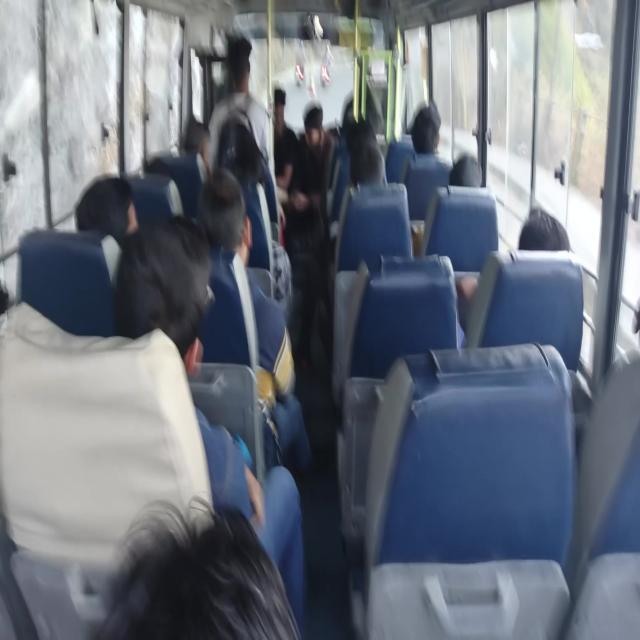person: (96, 497, 298, 639), (200, 166, 300, 404), (121, 239, 206, 343), (297, 102, 336, 223), (74, 176, 137, 244), (199, 170, 246, 254), (273, 87, 302, 199), (218, 120, 265, 188), (518, 207, 572, 253), (347, 132, 386, 190), (409, 102, 442, 156), (182, 117, 210, 159), (449, 153, 482, 188), (302, 101, 326, 147), (228, 37, 252, 70), (340, 92, 356, 130)
